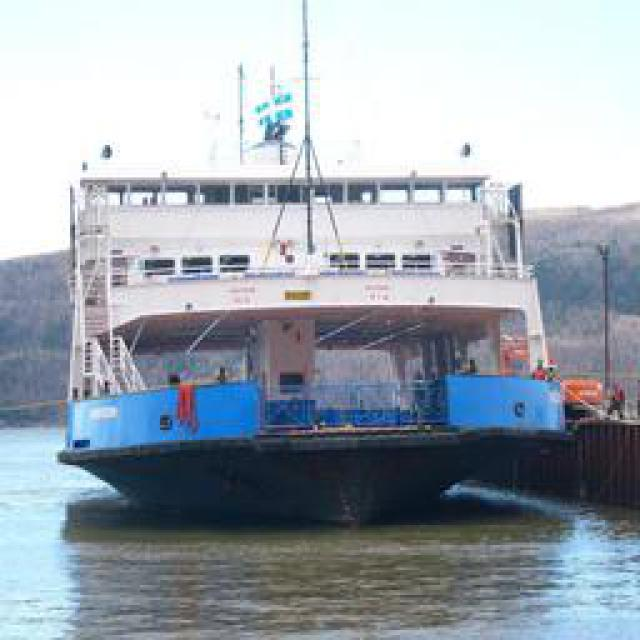Ship: (52, 101, 582, 516)
